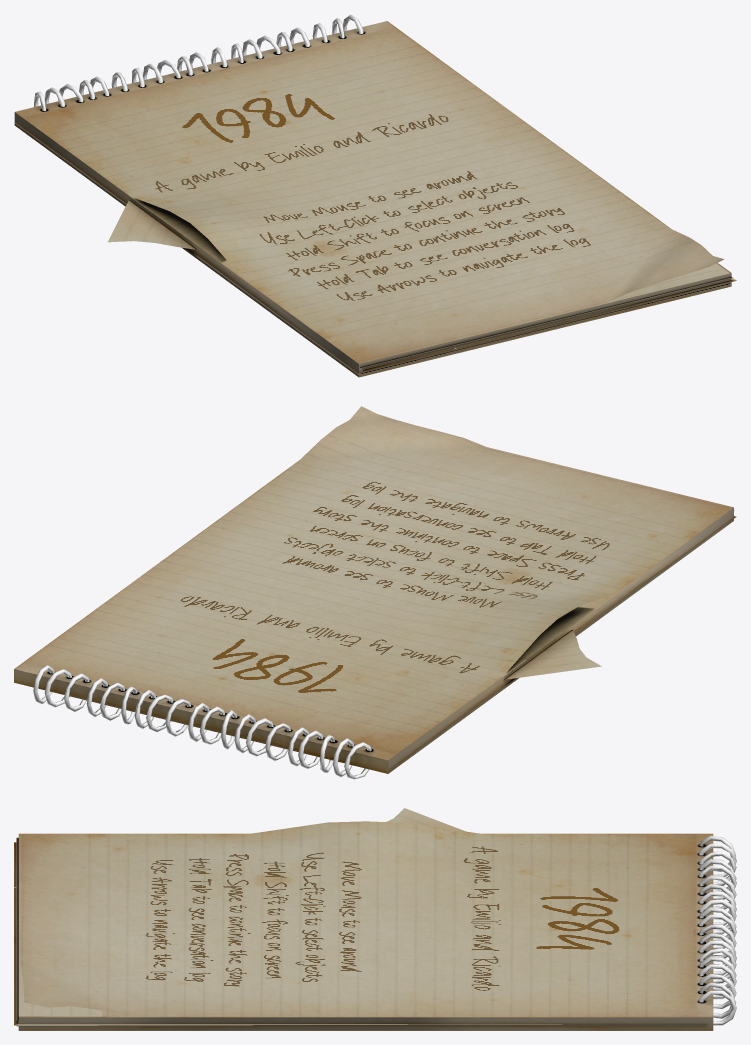
Rendered from notepad.fbx.
The picture shows the model from 3 angles, top to bottom: view 1: azimuth 30°, elevation 25°; view 2: azimuth 150°, elevation 25°; view 3: azimuth 270°, elevation 25°; orthographic projection.
Visible parts, largest first — view 1: Cube.006; view 2: Cube.006; view 3: Cube.006.
Part boxes in pixels (box(x1,y1,x2,y2)): Cube.006: box(14, 14, 736, 377); Cube.006: box(14, 406, 736, 779); Cube.006: box(14, 808, 736, 1030).
Size of the model in its own units: 23.38 by 1.94 by 33.3.
1 material, 1 textured.
